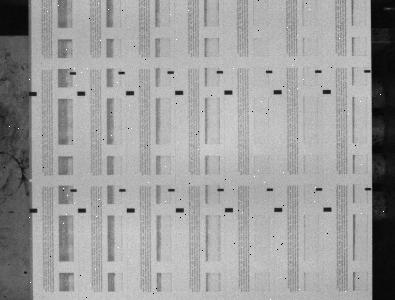backgroundclutter: (24, 271, 28, 274), (29, 179, 33, 182), (4, 295, 7, 298)
qblock: (29, 208, 38, 213), (175, 90, 184, 95), (224, 90, 233, 95), (274, 207, 283, 212), (29, 91, 37, 96), (77, 91, 85, 96), (323, 89, 331, 94), (78, 208, 86, 213), (126, 91, 135, 95), (323, 207, 332, 211), (126, 208, 135, 212), (274, 90, 282, 94), (225, 208, 233, 212), (176, 208, 184, 212)
smallqblock: (168, 188, 175, 192), (70, 188, 77, 192), (365, 187, 372, 191), (69, 71, 76, 75), (217, 70, 223, 74), (119, 189, 126, 192), (266, 188, 273, 191), (217, 188, 224, 191), (266, 70, 273, 73), (118, 71, 125, 74), (315, 70, 322, 73), (167, 71, 174, 74), (364, 70, 371, 73), (316, 188, 322, 191)
